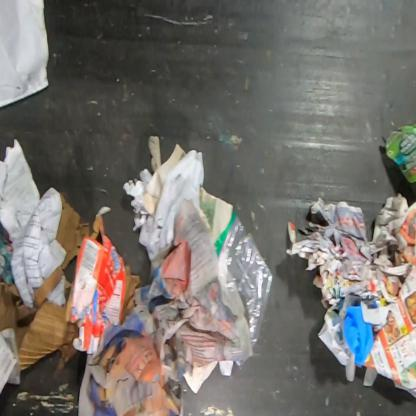cardboard: (64, 213, 127, 358), (18, 264, 86, 371), (0, 278, 37, 370), (56, 192, 93, 269), (385, 120, 415, 192), (122, 265, 144, 325)
soft_plastic: (213, 210, 274, 349), (235, 356, 252, 370)
